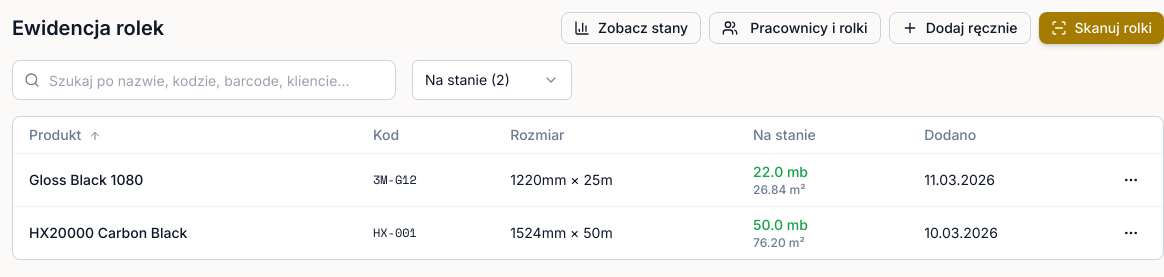
SalesRollsView › switching to sold tab reloads rolls with sold filter
This screenshot has width=1164, height=277.
Later steps or results of the test are not shown.
Expected: the text "HX20000 Carbon Black" is shown, [29,224,187,240]
Click the dropdown: (492, 80) [412,60,572,100]
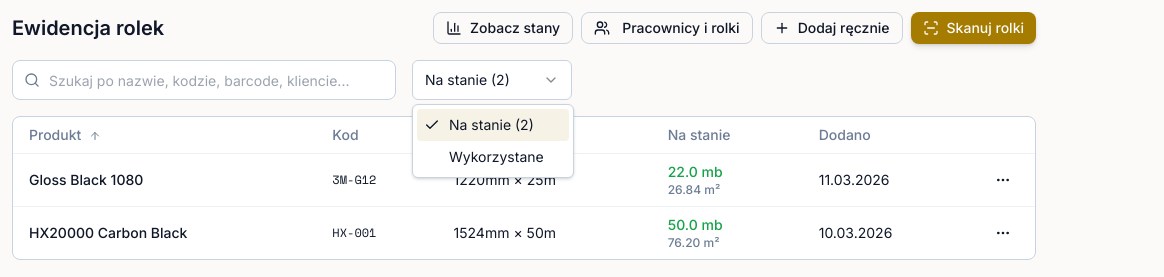
Expected: the text "Wykorzystane" is shown, [449,147,544,167]
